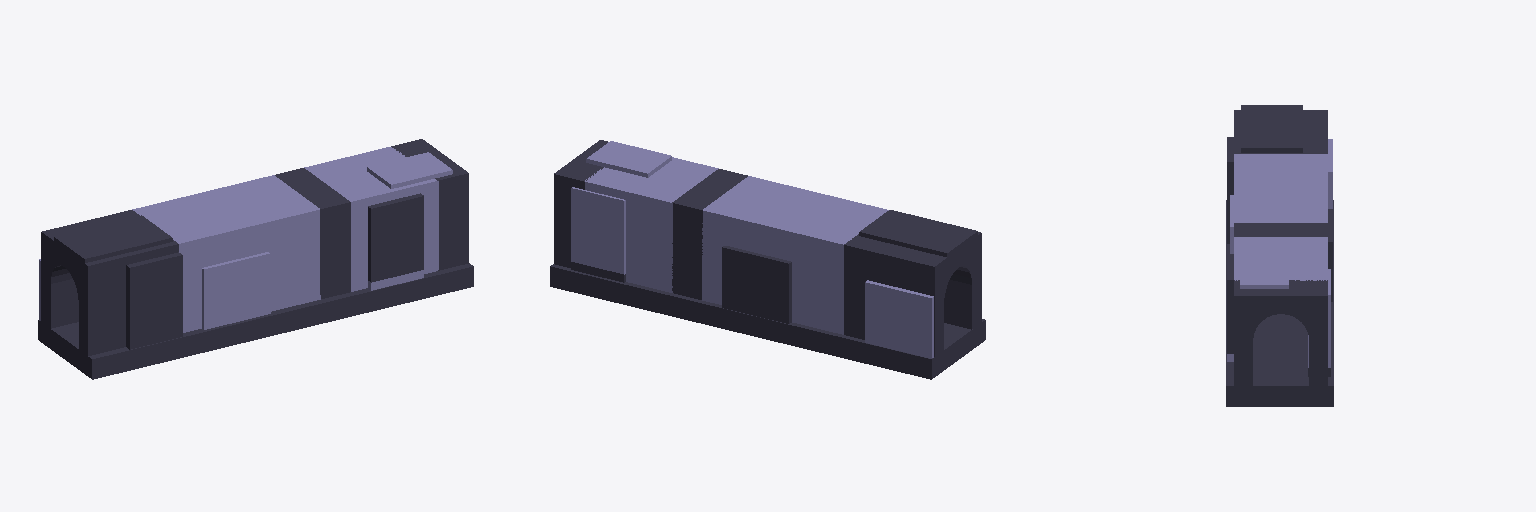
Rendered from LongHallway.obj.
3 renders of one model, left to right at view 1: azimuth 30°, elevation 25°; view 2: azimuth 150°, elevation 25°; view 3: azimuth 270°, elevation 25°, orthographic.
Parts seen in each view (by area): view 1: mergedBlocks; view 2: mergedBlocks; view 3: mergedBlocks.
Boxes of the visible parts, box(x1,y1,x2,y2) form: mergedBlocks: box(38, 139, 473, 379); mergedBlocks: box(550, 140, 985, 379); mergedBlocks: box(1226, 105, 1333, 406).
Size of the model in its own units: 6.48 by 1.87 by 1.6.